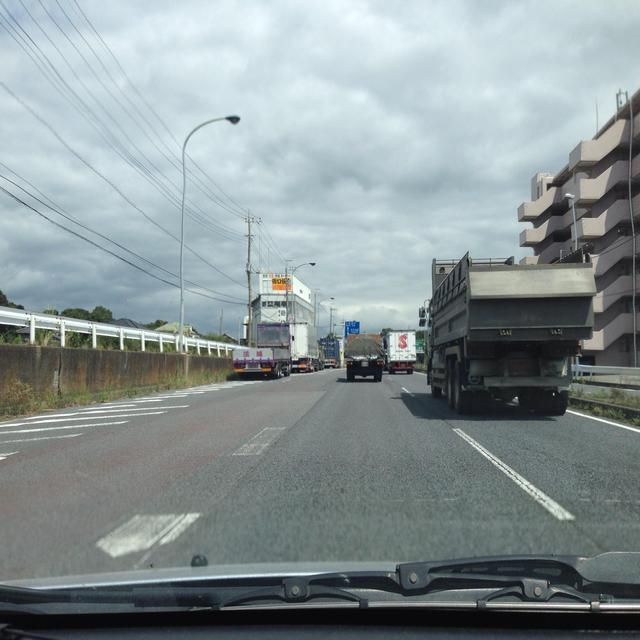Barrier: (0, 343, 233, 393)
Billboard: (262, 274, 290, 321), (337, 339, 342, 365)
Car: (383, 353, 388, 370)
Vegetation: (0, 290, 115, 322), (567, 385, 639, 426), (142, 319, 231, 343)
